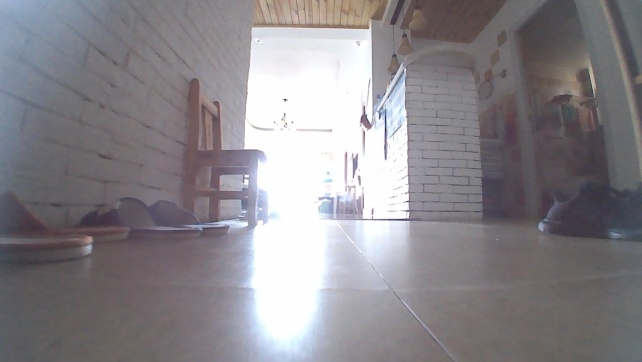shoe: (0, 190, 132, 264), (539, 180, 641, 248), (78, 195, 202, 241), (150, 198, 233, 237)
